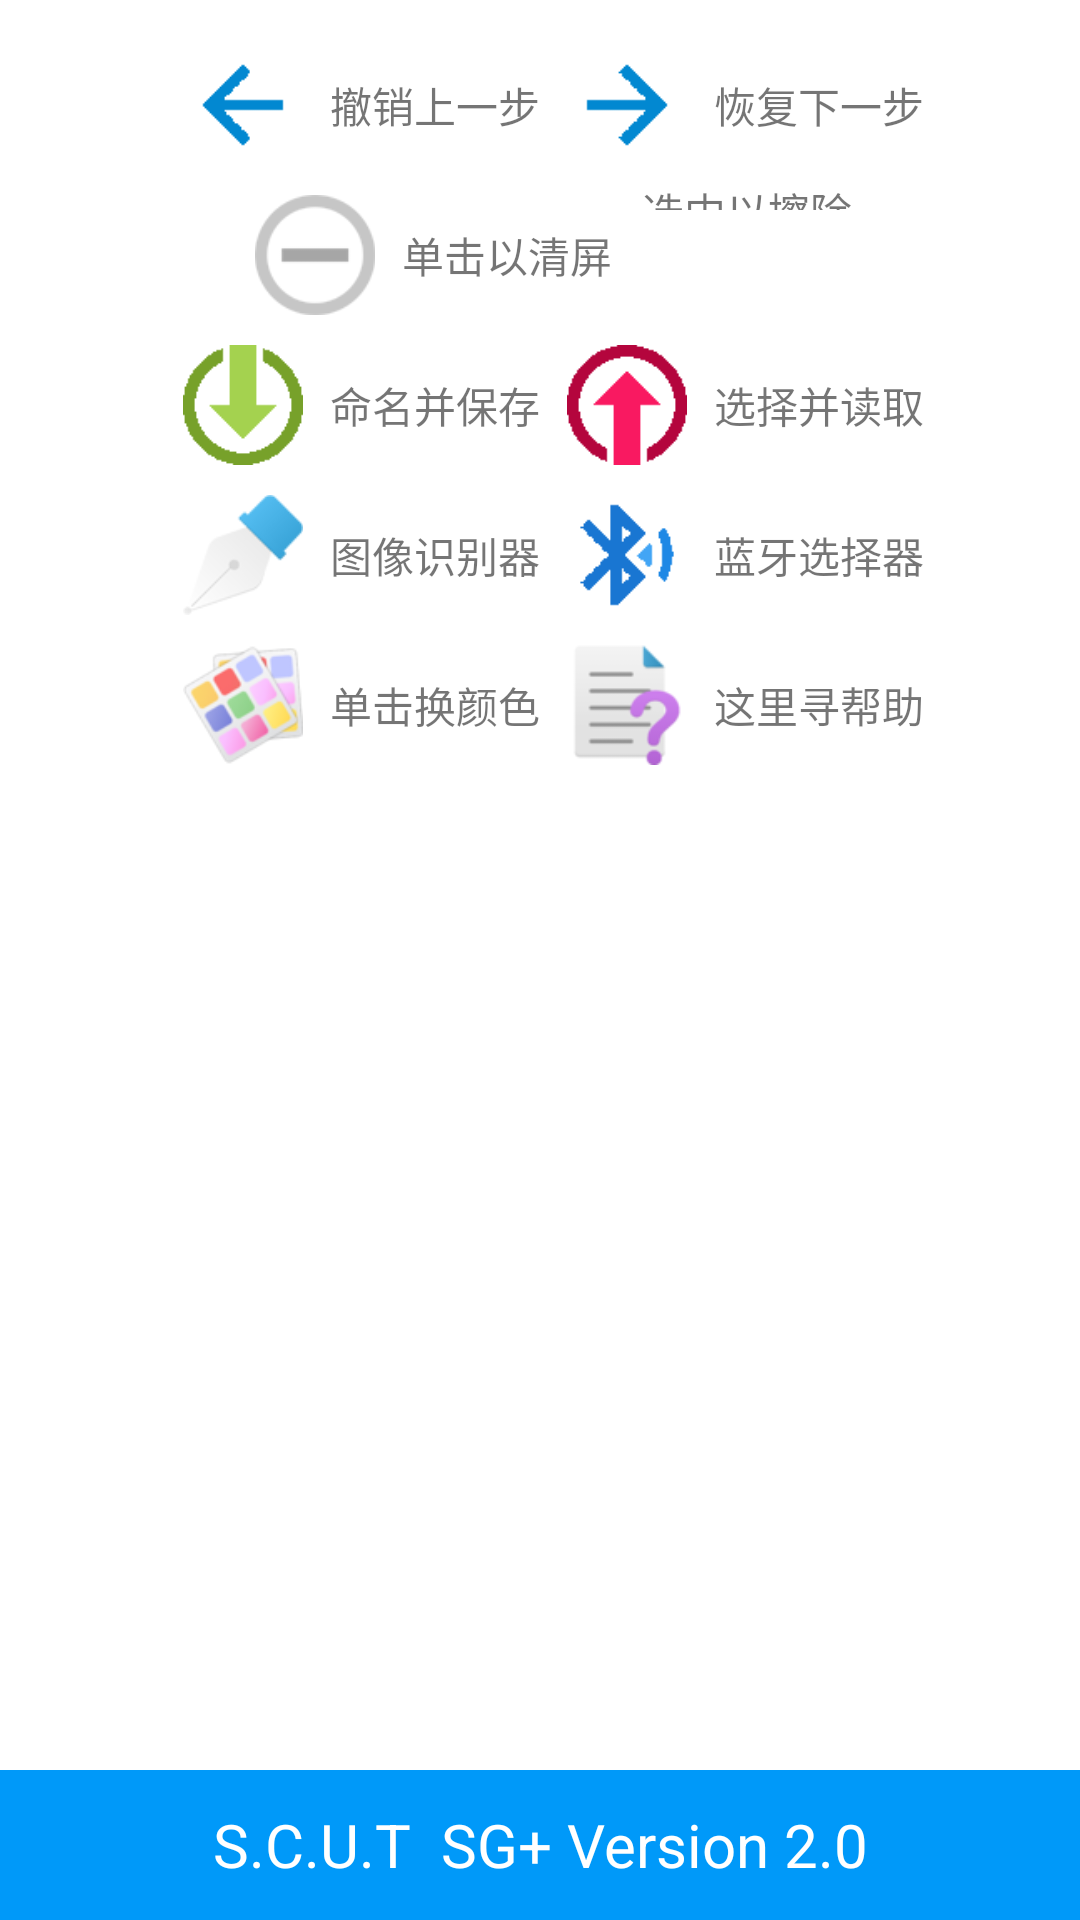

Where icons sit on this 1080x1920 app screen, as (x1, y1, x2, y2):
clear: (255, 195, 375, 315)
help: (575, 646, 680, 765)
open: (567, 345, 687, 465)
pen: (193, 495, 303, 605)
redo: (586, 64, 668, 146)
save: (183, 345, 303, 465)
undo: (202, 64, 284, 146)
